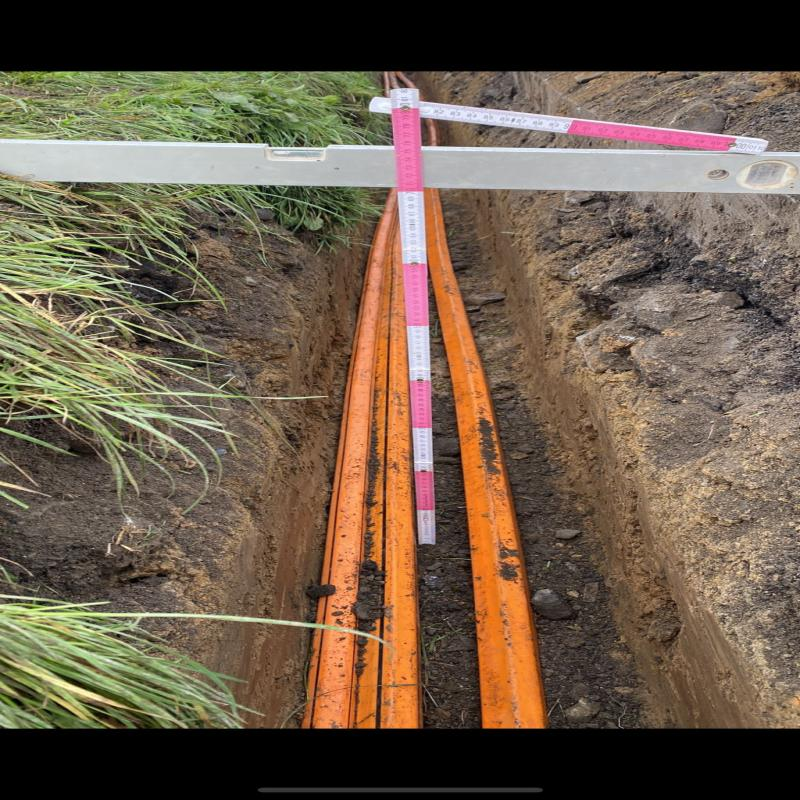Orang-Speednetrohrchen: (425, 188, 542, 726), (303, 189, 419, 729)
